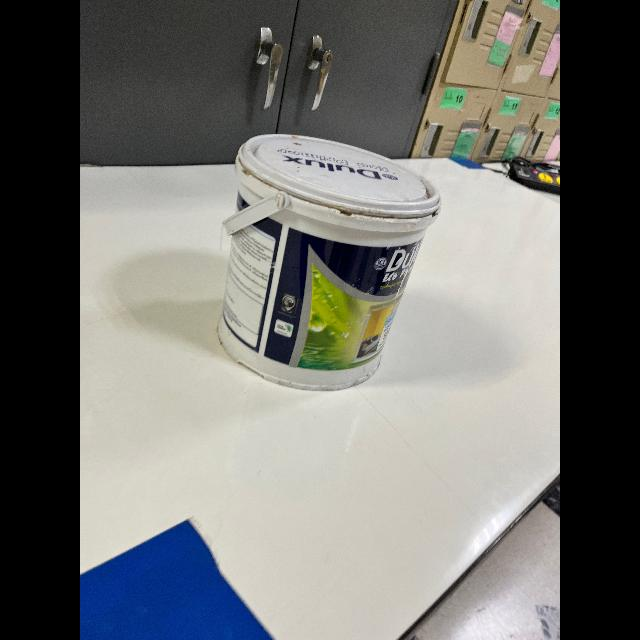paint_bucket: (212, 130, 438, 400)
